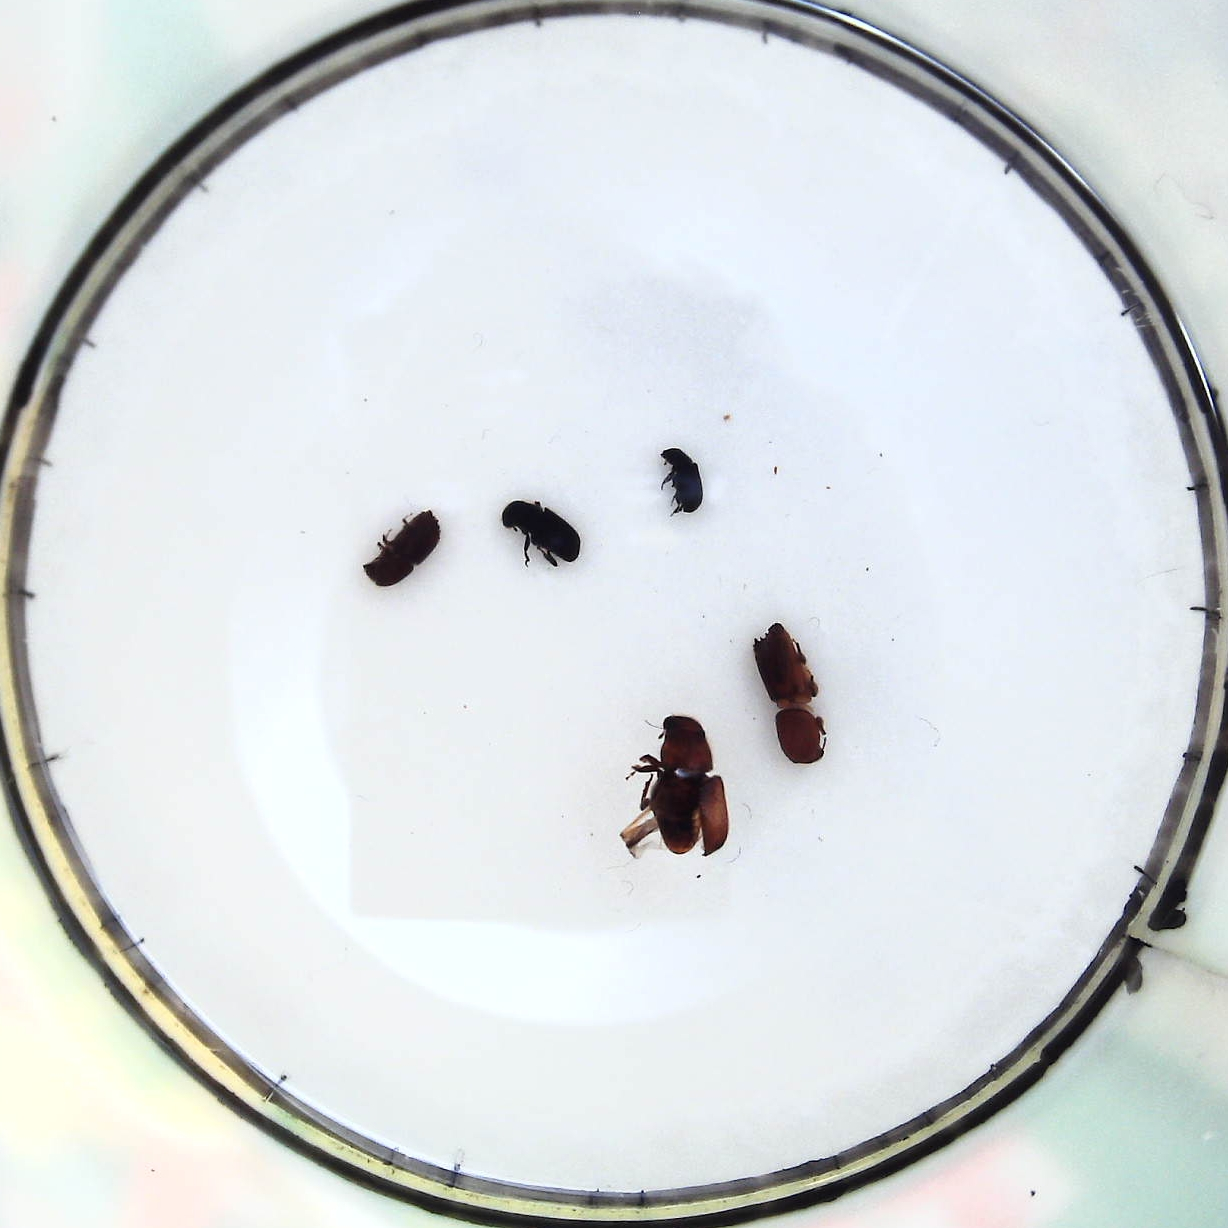Boerner: (751, 623, 831, 773)
Leconte: (621, 706, 724, 867)
Linnaeus: (363, 511, 439, 592)
armandi: (502, 496, 585, 577)
coleoptera: (661, 445, 708, 511)
